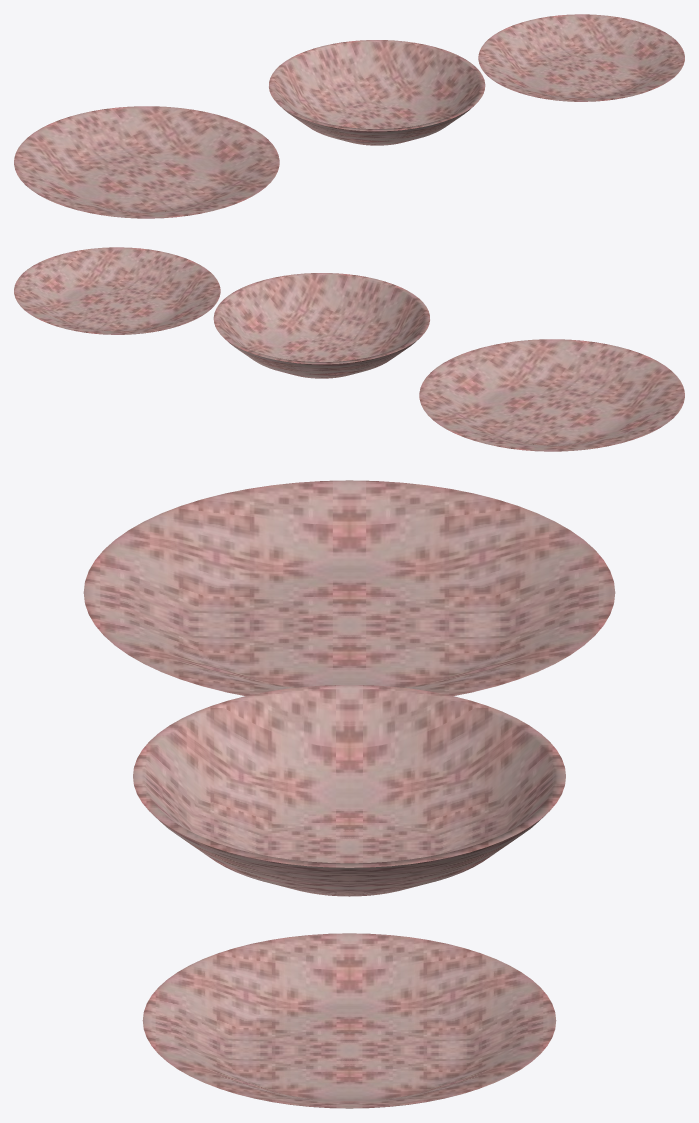
Rendered from FLO-11.glb.
The picture shows the model from 3 angles, top to bottom: view 1: azimuth 30°, elevation 25°; view 2: azimuth 150°, elevation 25°; view 3: azimuth 270°, elevation 25°; orthographic projection. The views are drawn at different scales.
Bounding box in the file's own units: 0.75 × 0.045 × 0.27.
6 materials, 6 textured.
